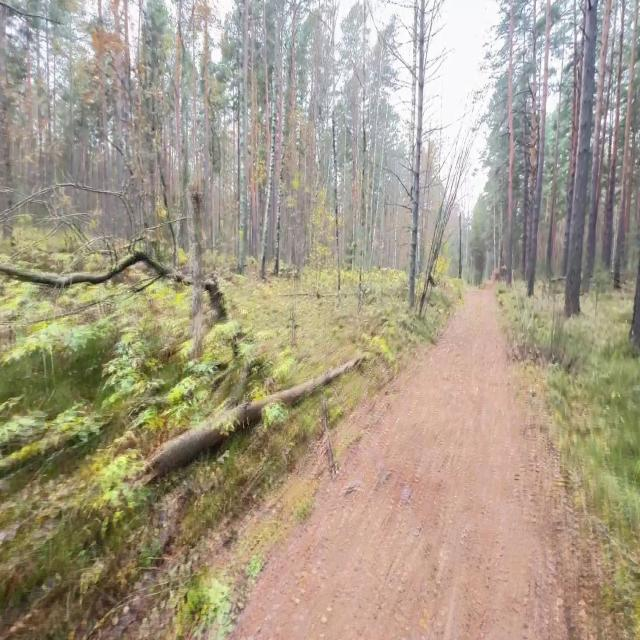bush: (419, 135, 470, 315)
trees: (141, 355, 364, 481), (565, 0, 598, 317), (586, 0, 611, 290), (614, 0, 638, 288), (527, 0, 550, 296), (0, 252, 194, 287), (562, 0, 582, 276), (0, 181, 126, 221), (409, 0, 425, 307), (605, 0, 624, 253), (527, 0, 538, 295), (238, 0, 248, 273), (274, 105, 288, 275), (506, 0, 514, 286), (359, 2, 366, 296), (260, 137, 274, 279), (332, 111, 340, 302), (96, 0, 106, 152), (626, 130, 635, 242), (174, 33, 181, 173), (630, 257, 639, 350), (45, 27, 51, 144), (36, 31, 41, 158), (25, 28, 30, 122), (458, 208, 462, 280), (493, 203, 496, 269)
